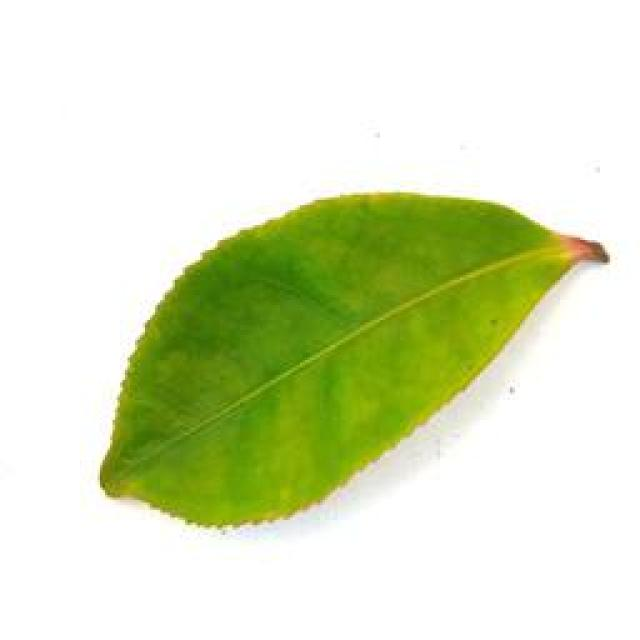Healthy: (97, 175, 607, 536)
